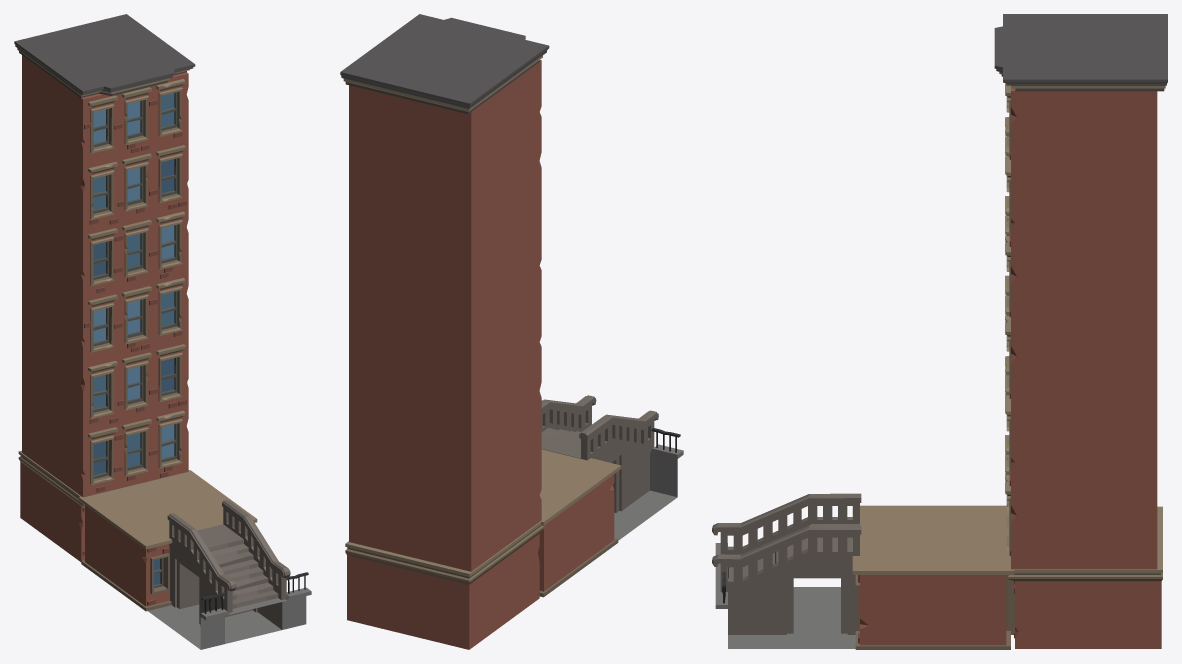
Rendered from apartment.glb.
3 renders of one model, left to right at view 1: azimuth 30°, elevation 25°; view 2: azimuth 150°, elevation 25°; view 3: azimuth 270°, elevation 25°, orthographic. The views are drawn at different scales.
Visible parts, largest first — view 1: Apt_Stack_0, Apt_Stack_1, Apt_Stairs, Apt_Roof, Apt_Base; view 2: Apt_Stack_0, Apt_Stack_1, Apt_Stairs, Apt_Base, Apt_Roof; view 3: Apt_Stairs, Apt_Stack_0, Apt_Stack_1, Apt_Roof, Apt_Base.
Part boxes in pixels (x1,y1,x2,y2): Apt_Stack_0: [22, 254, 188, 497]; Apt_Stack_1: [22, 55, 188, 298]; Apt_Stairs: [78, 470, 311, 649]; Apt_Roof: [14, 14, 195, 97]; Apt_Base: [18, 450, 177, 561]; Apt_Stack_0: [349, 290, 541, 571]; Apt_Stack_1: [349, 60, 541, 341]; Apt_Stairs: [538, 395, 683, 597]; Apt_Base: [345, 518, 544, 649]; Apt_Roof: [340, 14, 549, 113]; Apt_Stairs: [712, 493, 1014, 649]; Apt_Stack_0: [1005, 275, 1157, 569]; Apt_Stack_1: [1005, 83, 1157, 330]; Apt_Roof: [994, 14, 1167, 91]; Apt_Base: [999, 506, 1162, 648].
Size of what is drawn, in the model's own units: 5.31 by 21.5 by 15.56.
Materials: 1 (1 with a texture image).
